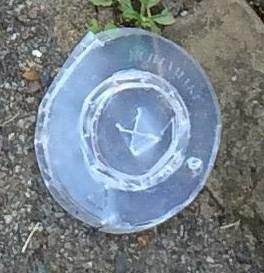Plastic: (33, 25, 225, 235)
